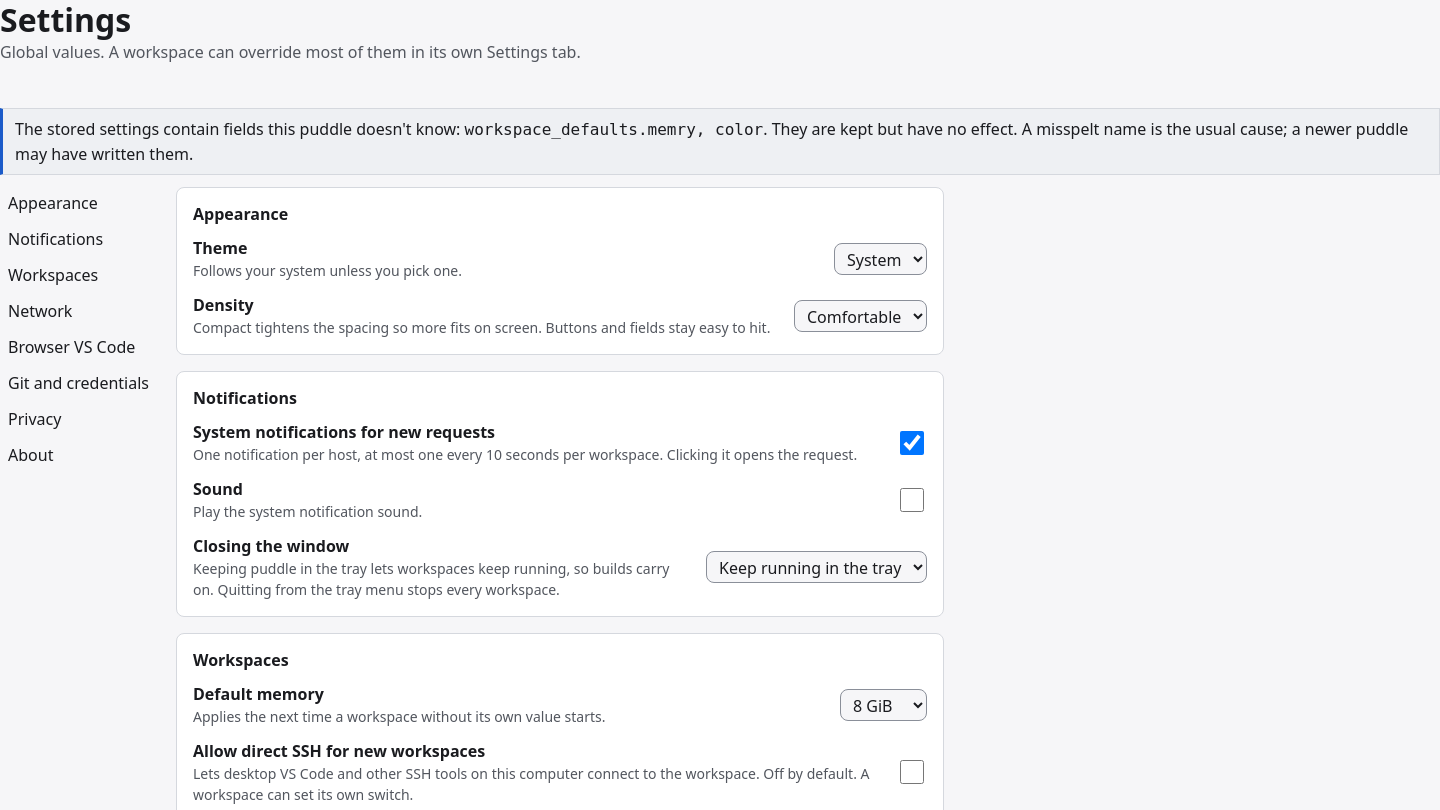
Scenario: appearance and notifications › stores the theme in the settings, and keeps a hint for the first paint
Expected: the heading "Appearance" is shown, x1=193 y1=203 x2=288 y2=225
Select "Dark" in the dropdown labelled "Theme" at (880, 258), box x1=834 y1=242 x2=927 y2=274
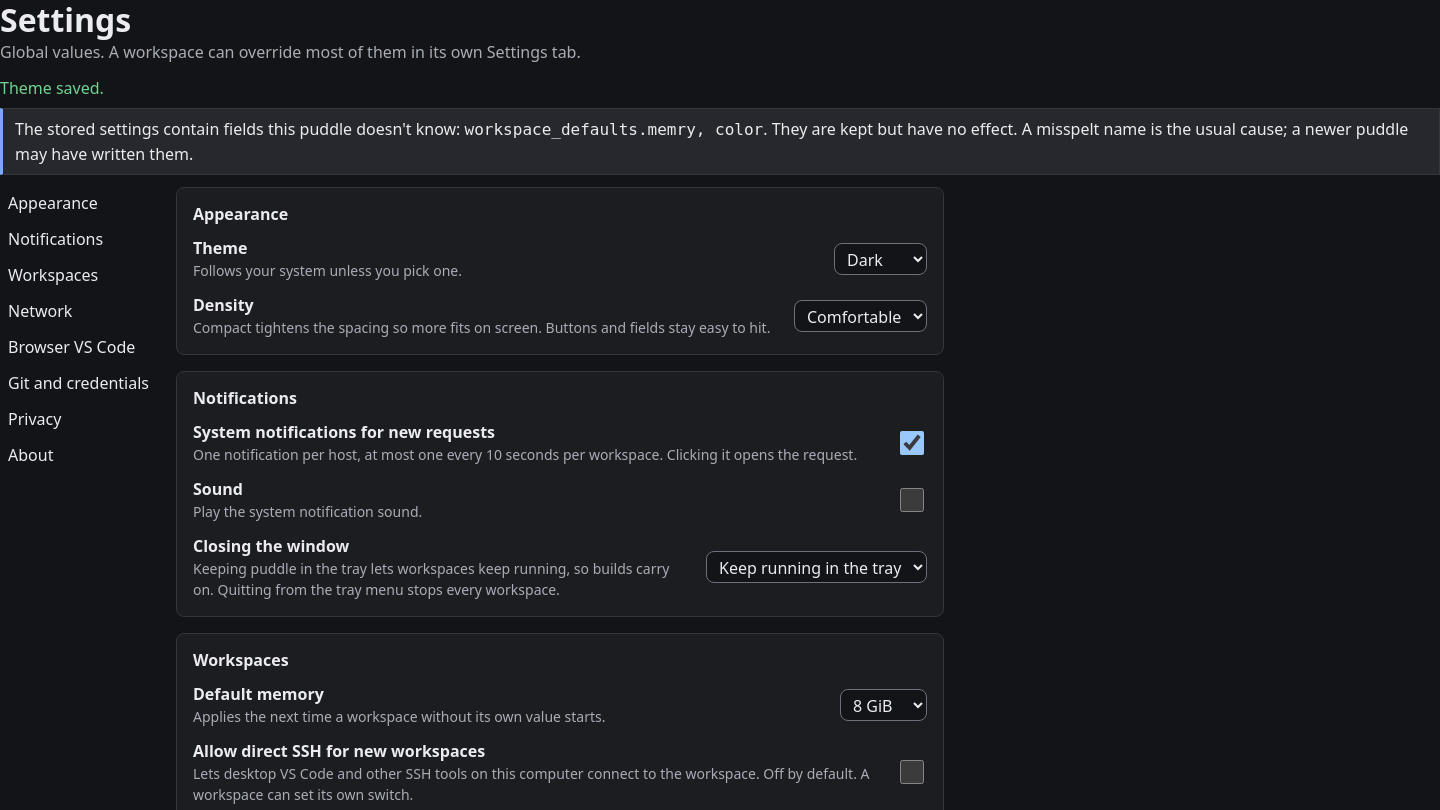
Expected: the text "Theme saved." is shown, x1=0 y1=77 x2=104 y2=99
